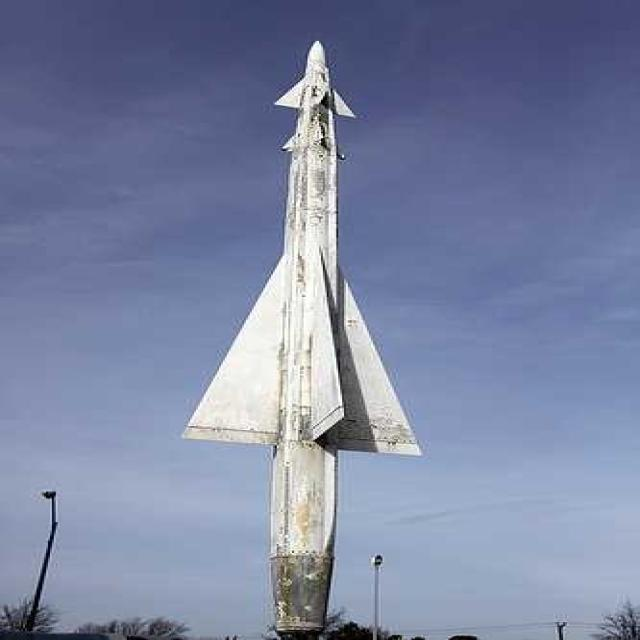missile: (183, 0, 418, 637)
